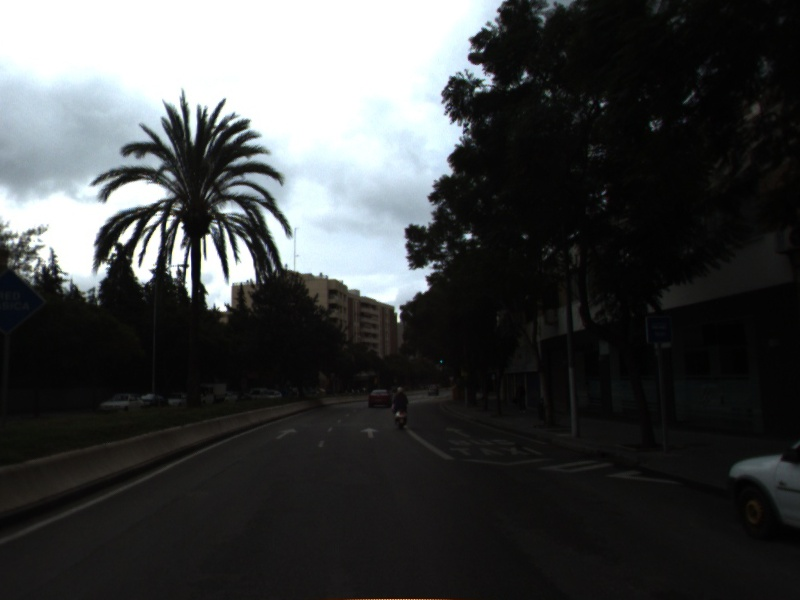STRAIGHT: (444, 425, 473, 439), (273, 426, 299, 441), (359, 425, 382, 440)
